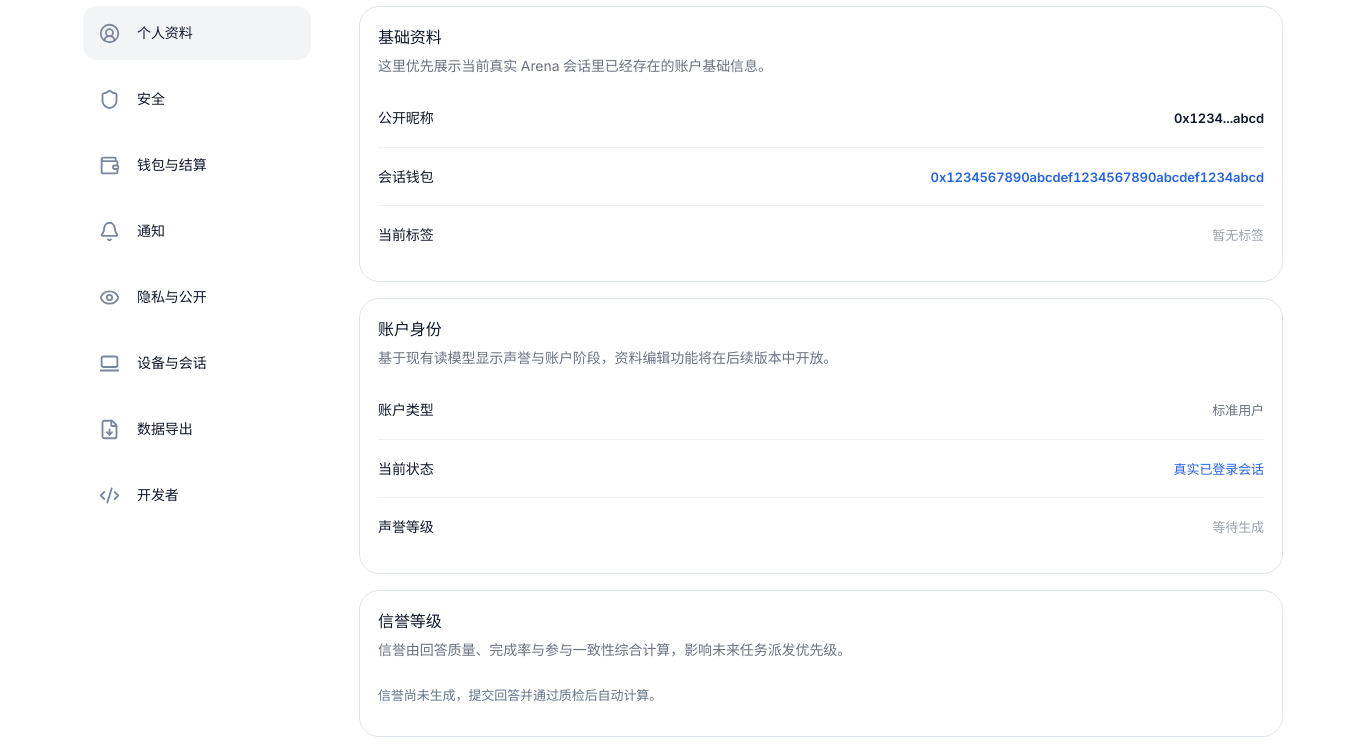
Test: AccountActivityPage › shows latest export artifact details in the exports section when a real artifact is available
The width and height of the screenshot is (1366, 746).
Click the button "数据导出". click: (197, 429)
box: [83,402,311,456]
(page scrolled)
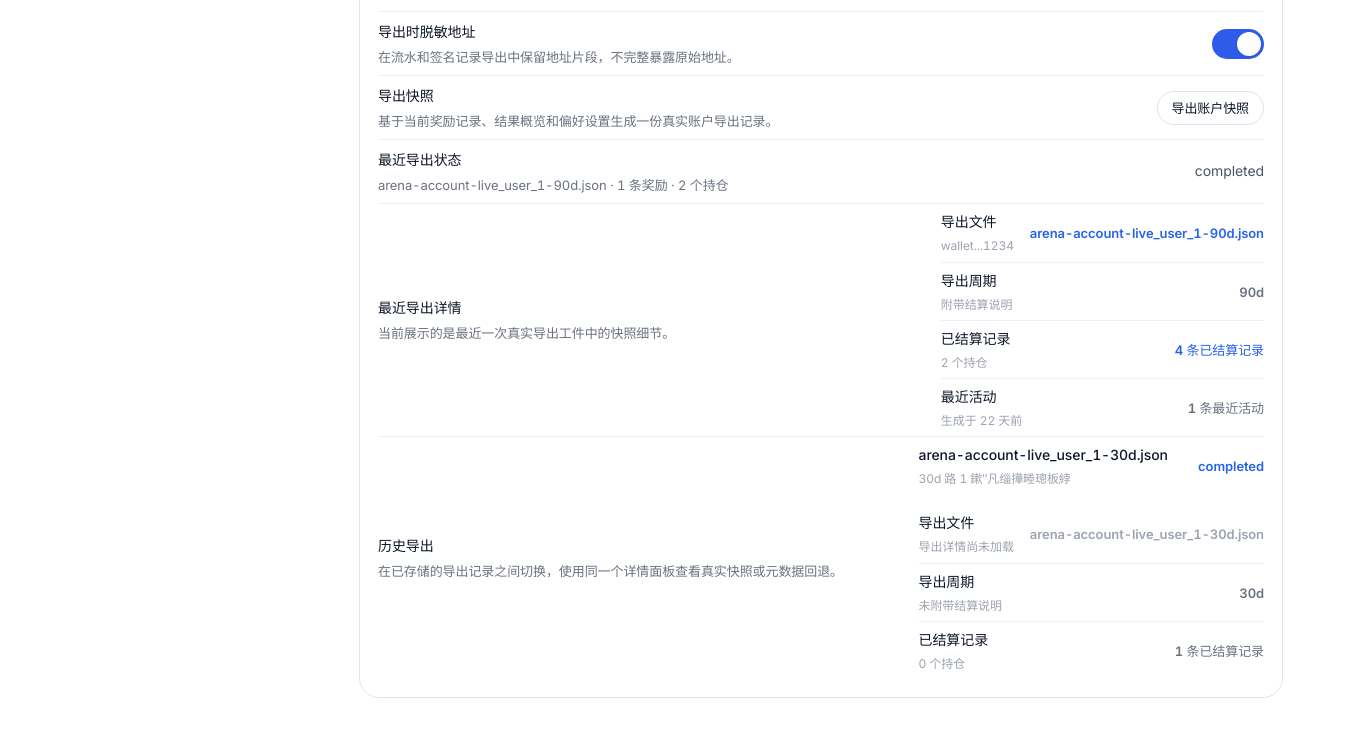
Check: the text "wallet...1234" is shown, box [941,237,1014,255]
Check: the text "90d" is shown, box [1239,282,1264,302]
Check: the text "4 条已结算记录" is shown, box [1175,340,1264,360]
